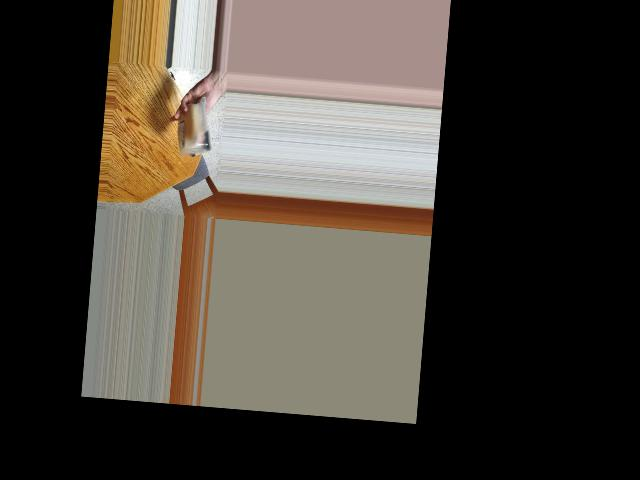cheese: (176, 104, 210, 153)
